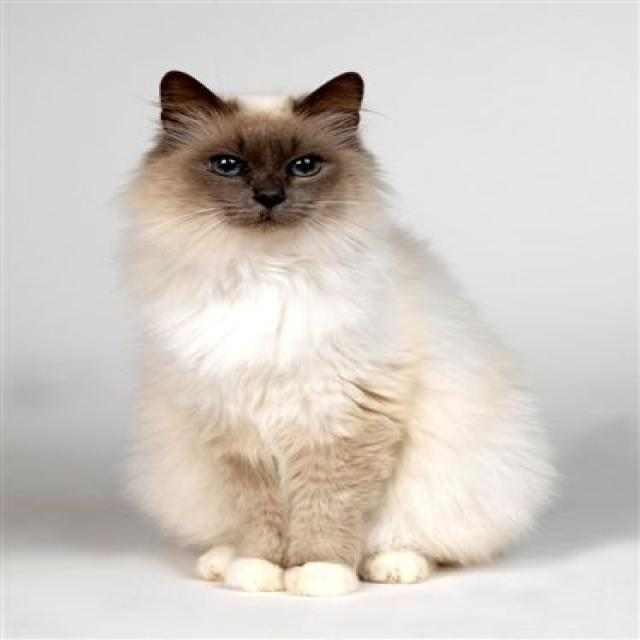Birman: (118, 66, 410, 271)
